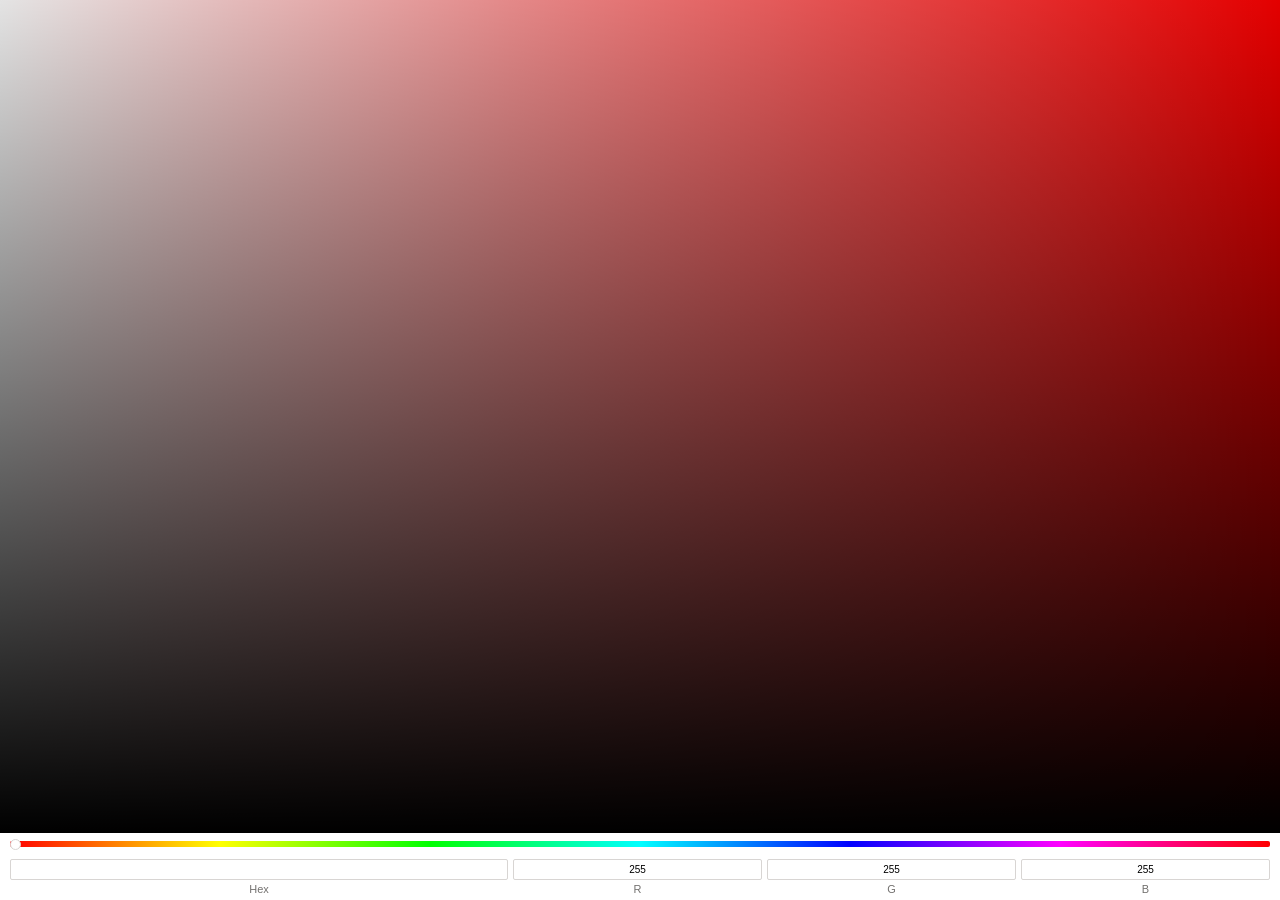
Test case: SketchColourPicker › hex input › updates RGB inputs when hex is changed
The image size is (1280, 900).
Type "3366CC" into the field at (259, 870), box [10,859,508,880]
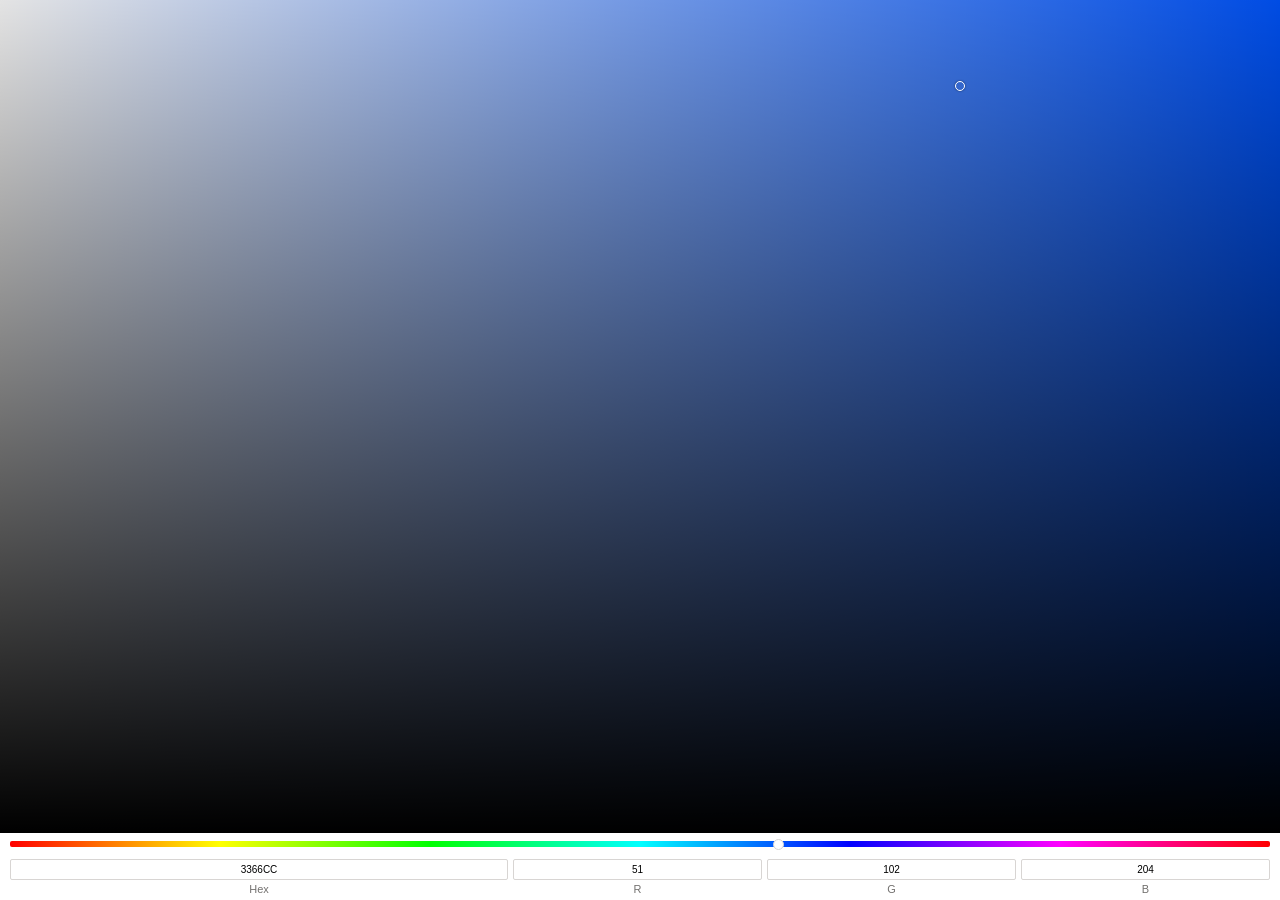
Expected: the 1st number field holds "51", [513,859,762,880]
Expected: the 2nd number field holds "102", [767,859,1016,880]
Expected: the 3rd number field holds "204", [1021,859,1270,880]
